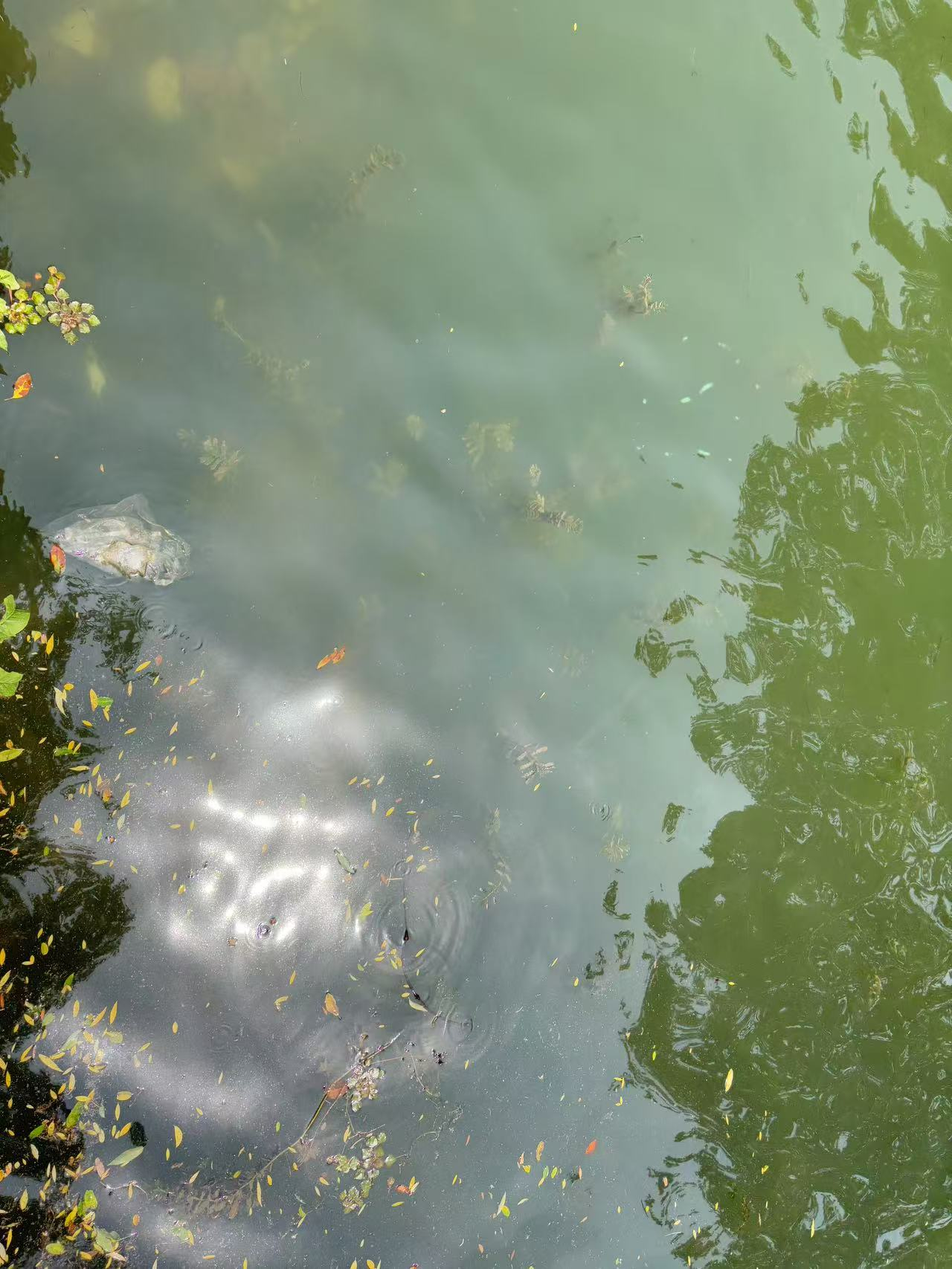Plastic wastes: (39, 503, 195, 584)
